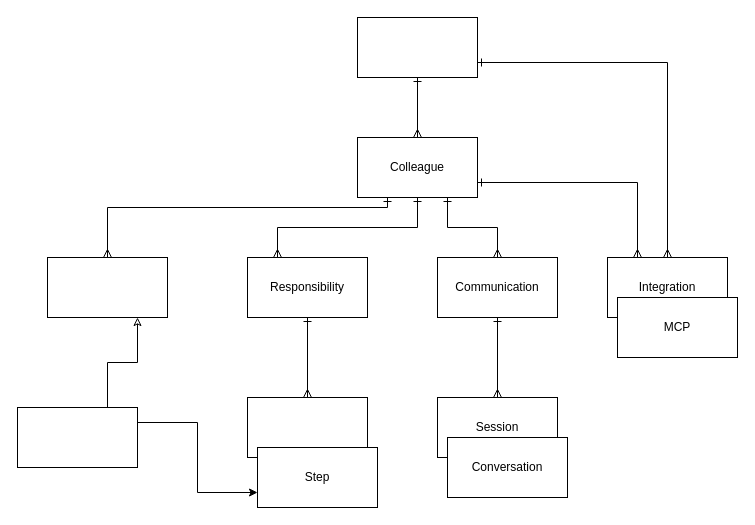
Some shapes in this 755 by 525 pixel diagram are drawn without their labels. The centre of each missing label's shape, as x and y in pixels:
Knowledge: pixel 107 287
Supervising: pixel 77 437
Task: pixel 307 427
Team: pixel 417 47
